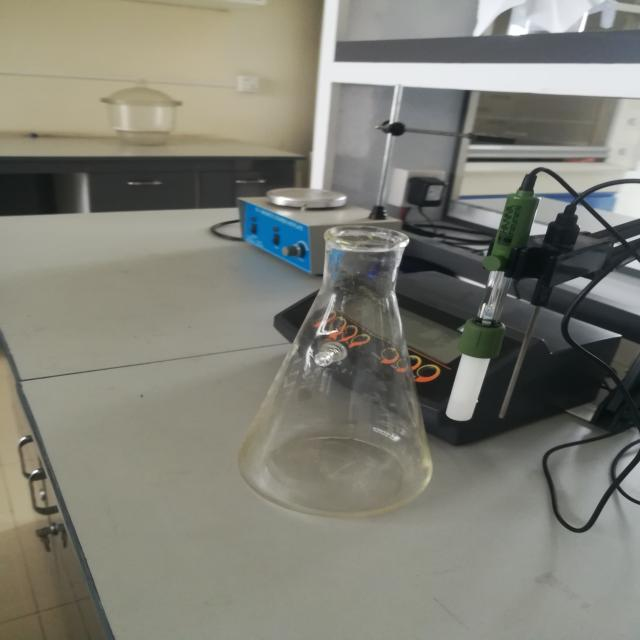Conical_Flask: (224, 192, 461, 531)
